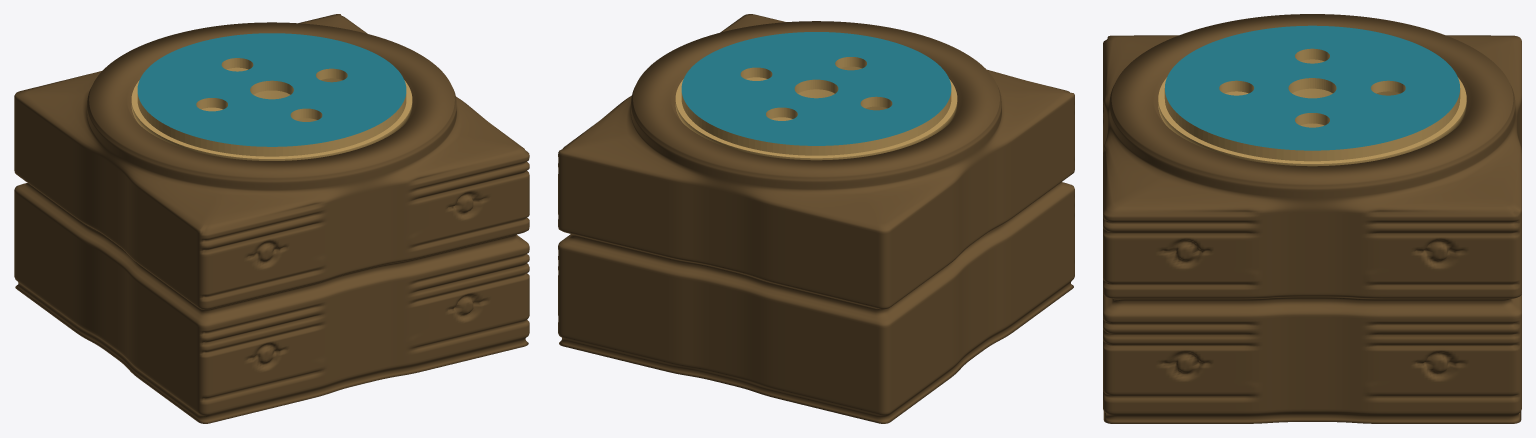
File: yuji-reconstruction.glb
3 views of the same model, side by side, from view 1: azimuth 30°, elevation 25°; view 2: azimuth 150°, elevation 25°; view 3: azimuth 270°, elevation 25° (orthographic). The views are drawn at different scales.
Parts seen in each view (by area): view 1: Cong_Body, Liner_Lid, Liner_Cup; view 2: Cong_Body, Liner_Lid, Liner_Cup; view 3: Cong_Body, Liner_Lid, Liner_Cup.
Boxes of the visible parts, x1,y1,x2,y2 form: Cong_Body: (14,14,529,423); Liner_Lid: (137,33,406,156); Liner_Cup: (131,67,412,160); Cong_Body: (558,14,1074,423); Liner_Lid: (681,32,951,155); Liner_Cup: (675,66,957,160); Cong_Body: (1103,14,1521,423); Liner_Lid: (1164,25,1460,161); Liner_Cup: (1158,59,1466,166).
Size of the model in its own units: 1.6 by 1.04 by 1.6.
